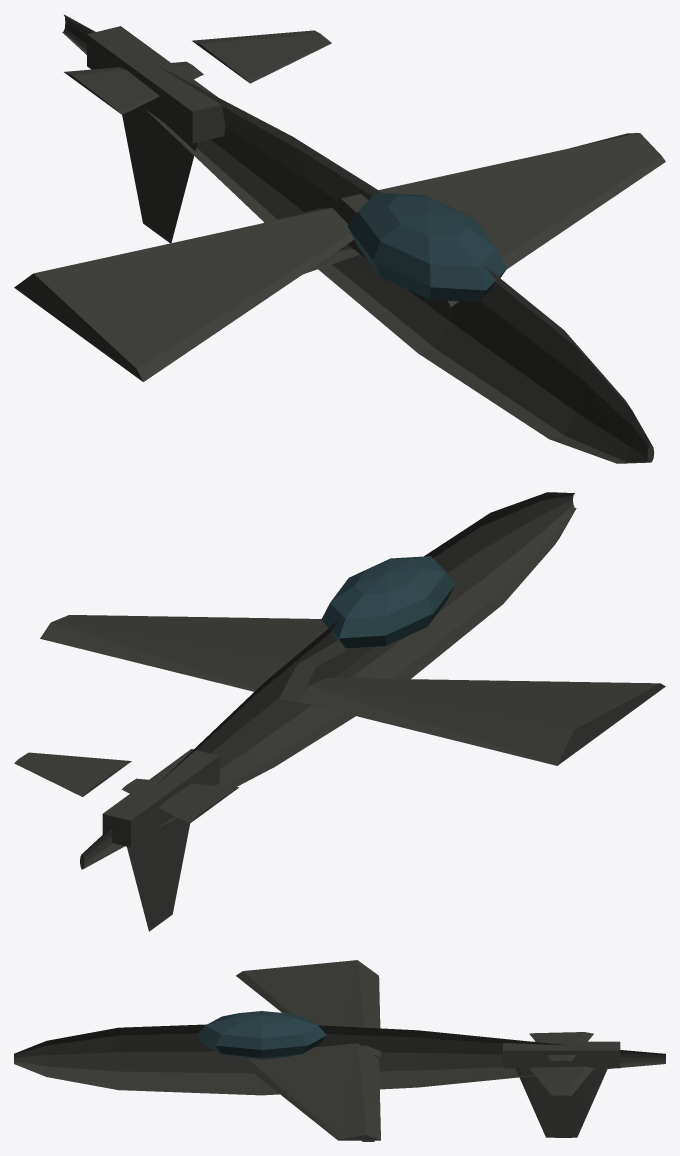
The model's file is f16v_Destroyed.glb.
3 renders of one model, top to bottom at view 1: azimuth 30°, elevation 25°; view 2: azimuth 150°, elevation 25°; view 3: azimuth 270°, elevation 25°, orthographic. The views are drawn at different scales.
Visible parts, largest first — view 1: Fuselage, Wing_L, Wing_R, Cockpit, TailBoom, Rudder, Elevator_R, Elevator_L; view 2: Fuselage, Wing_L, Wing_R, Cockpit, TailBoom, Rudder, Elevator_R, Elevator_L; view 3: Fuselage, Wing_R, Wing_L, Cockpit, Rudder, TailBoom, Elevator_R, Elevator_L.
Part boxes in pixels (box(x1,y1,x2,y2)): Fuselage: box(62, 14, 654, 463); Wing_L: box(14, 208, 353, 381); Wing_R: box(328, 133, 665, 306); Cockpit: box(347, 192, 506, 302); TailBoom: box(87, 26, 225, 143); Rudder: box(122, 106, 197, 243); Elevator_R: box(192, 30, 331, 83); Elevator_L: box(64, 61, 203, 114); Fuselage: box(80, 492, 576, 869); Wing_L: box(298, 678, 665, 765); Wing_R: box(40, 615, 375, 702); Cockpit: box(321, 556, 455, 648); TailBoom: box(102, 749, 219, 847); Rudder: box(127, 816, 190, 931); Elevator_R: box(14, 752, 131, 796); Elevator_L: box(122, 778, 238, 823); Fuselage: box(14, 1024, 665, 1095); Wing_R: box(236, 1043, 380, 1140); Wing_L: box(236, 960, 380, 1057); Cockpit: box(196, 1011, 326, 1059); Rudder: box(515, 1068, 607, 1137); TailBoom: box(503, 1041, 620, 1068); Elevator_R: box(529, 1066, 593, 1095); Elevator_L: box(529, 1032, 593, 1061).
Bounding box in the file's own units: 9.07 × 3.1 × 15.03.
